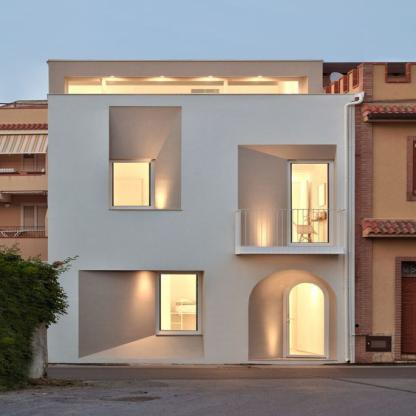Balcony: (48, 94, 355, 117), (235, 210, 344, 254)
Building Outline: (46, 59, 355, 365)
Door: (288, 160, 333, 245), (283, 280, 329, 358)
Facade: (46, 58, 355, 364)
Floor Slab: (48, 246, 355, 259), (48, 118, 355, 130)
Window: (78, 271, 204, 359), (248, 269, 338, 361), (110, 107, 181, 210), (66, 75, 307, 104), (161, 274, 198, 330), (113, 163, 150, 206), (192, 89, 220, 107)
